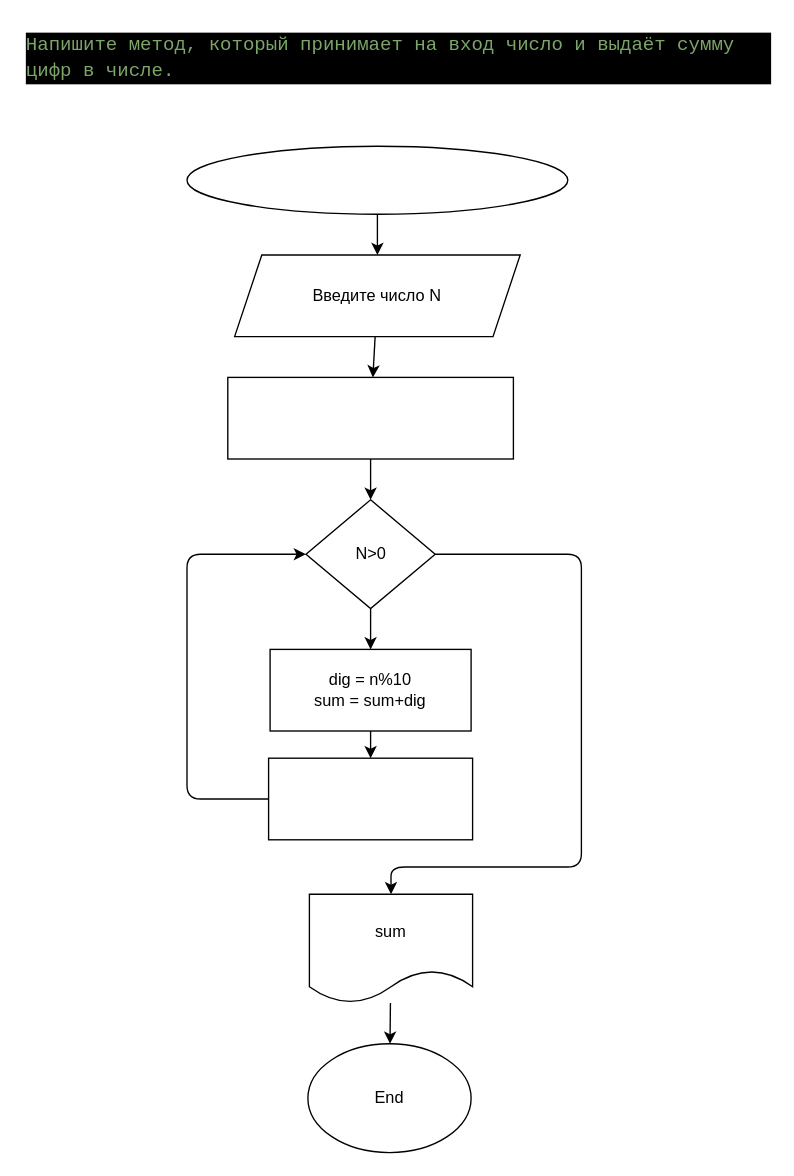
Some shapes in this 794 by 1176 pixel diagram are drawn without their labels. Here are the shapes that lost their labels. From the top down, the centre of each, then its label:
(377,179): Start
(369,417): sum =0 dig = 0
(370,798): n = n/10
